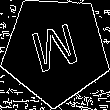M_S: (28, 19, 84, 81)
